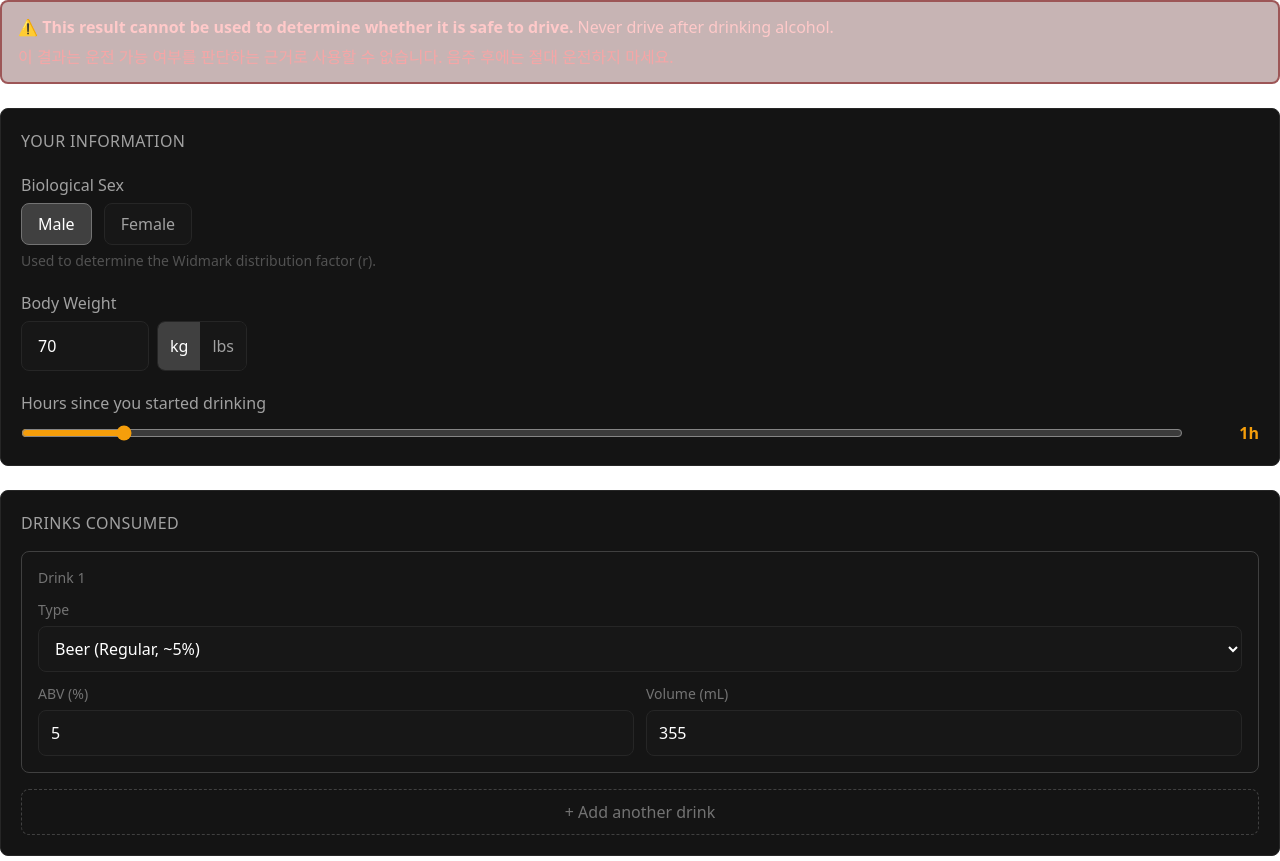
Test: BacCalculatorTool — drink field accessibility › keeps each drink row's fields uniquely associated after adding a second drink
Step 1. Click the button "+ Add another drink" → click(640, 812), box [21,789,1259,835]
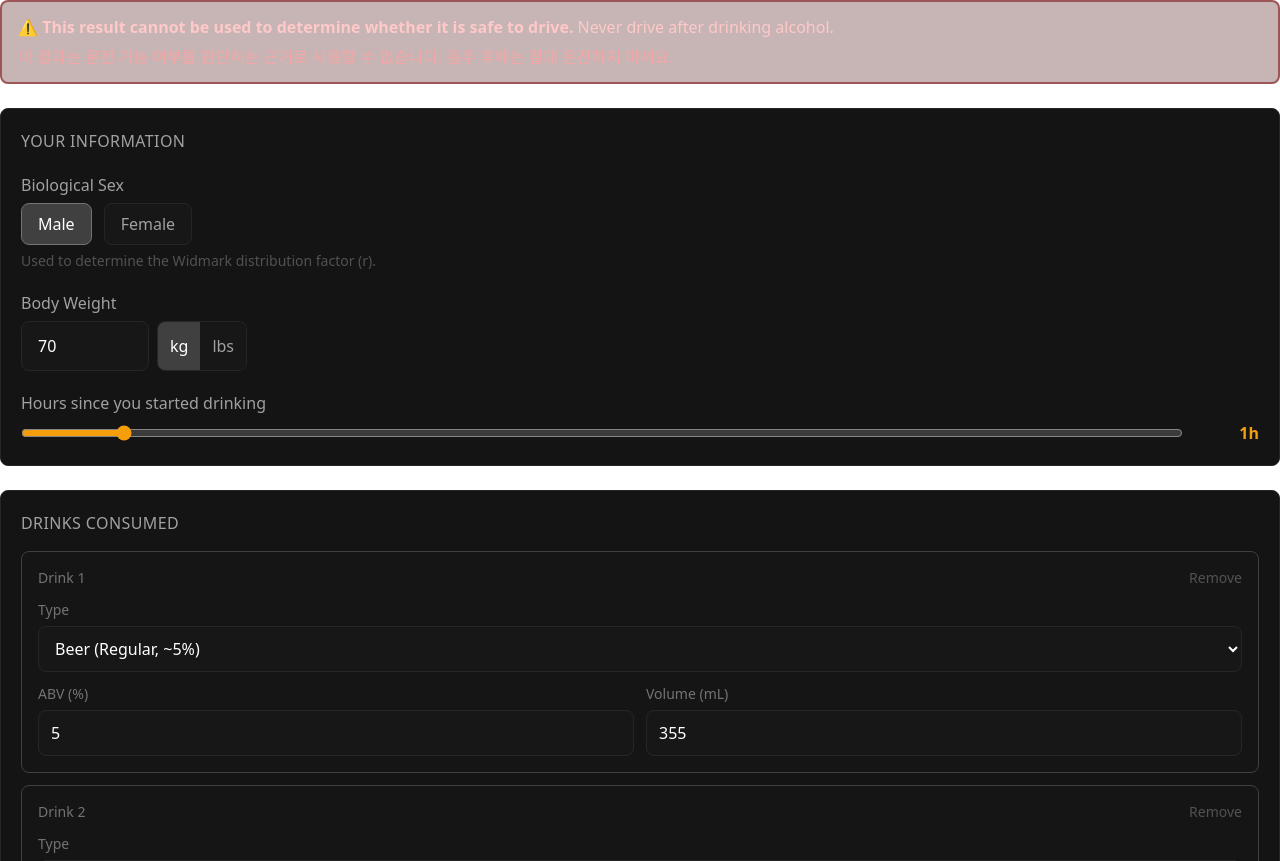
Now the number of number fields labelled "ABV (%)" is 2
Now the number of number fields labelled "Volume (mL)" is 2
